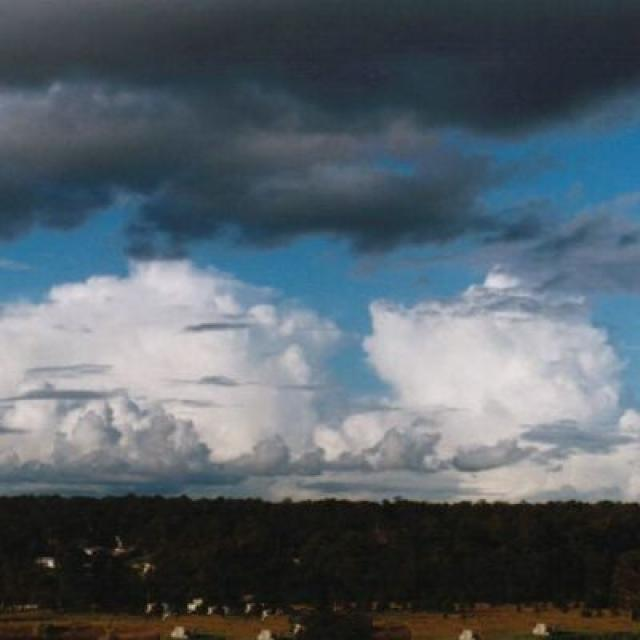Sc: (1, 1, 639, 282)
